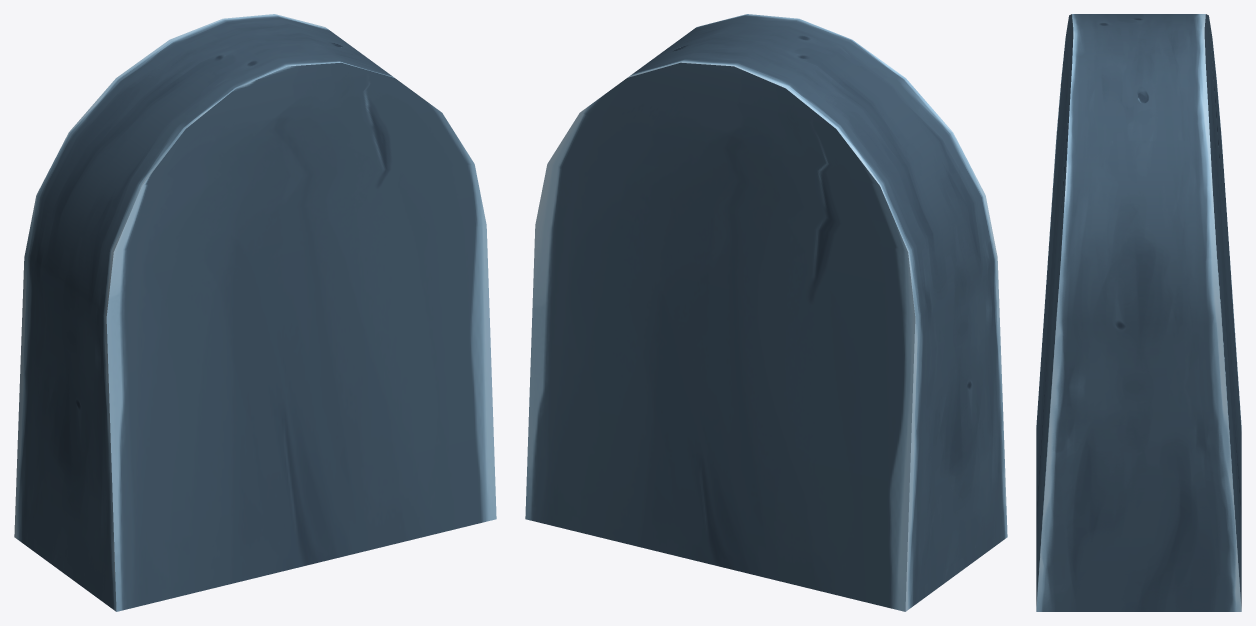
The model's file is SM_PROP_gravestone_v01_01.fbx.
3 views of the same model, side by side, from view 1: azimuth 30°, elevation 25°; view 2: azimuth 150°, elevation 25°; view 3: azimuth 270°, elevation 25° (orthographic).
Parts seen in each view (by area): view 1: SM_PROP_gravestone_v01_01; view 2: SM_PROP_gravestone_v01_01; view 3: SM_PROP_gravestone_v01_01.
Boxes of the visible parts, <box> form: SM_PROP_gravestone_v01_01: <box>14,14,496,611</box>; SM_PROP_gravestone_v01_01: <box>525,14,1007,611</box>; SM_PROP_gravestone_v01_01: <box>1036,14,1241,611</box>.
Size of the model in its own units: 108 by 132 by 50.32.
